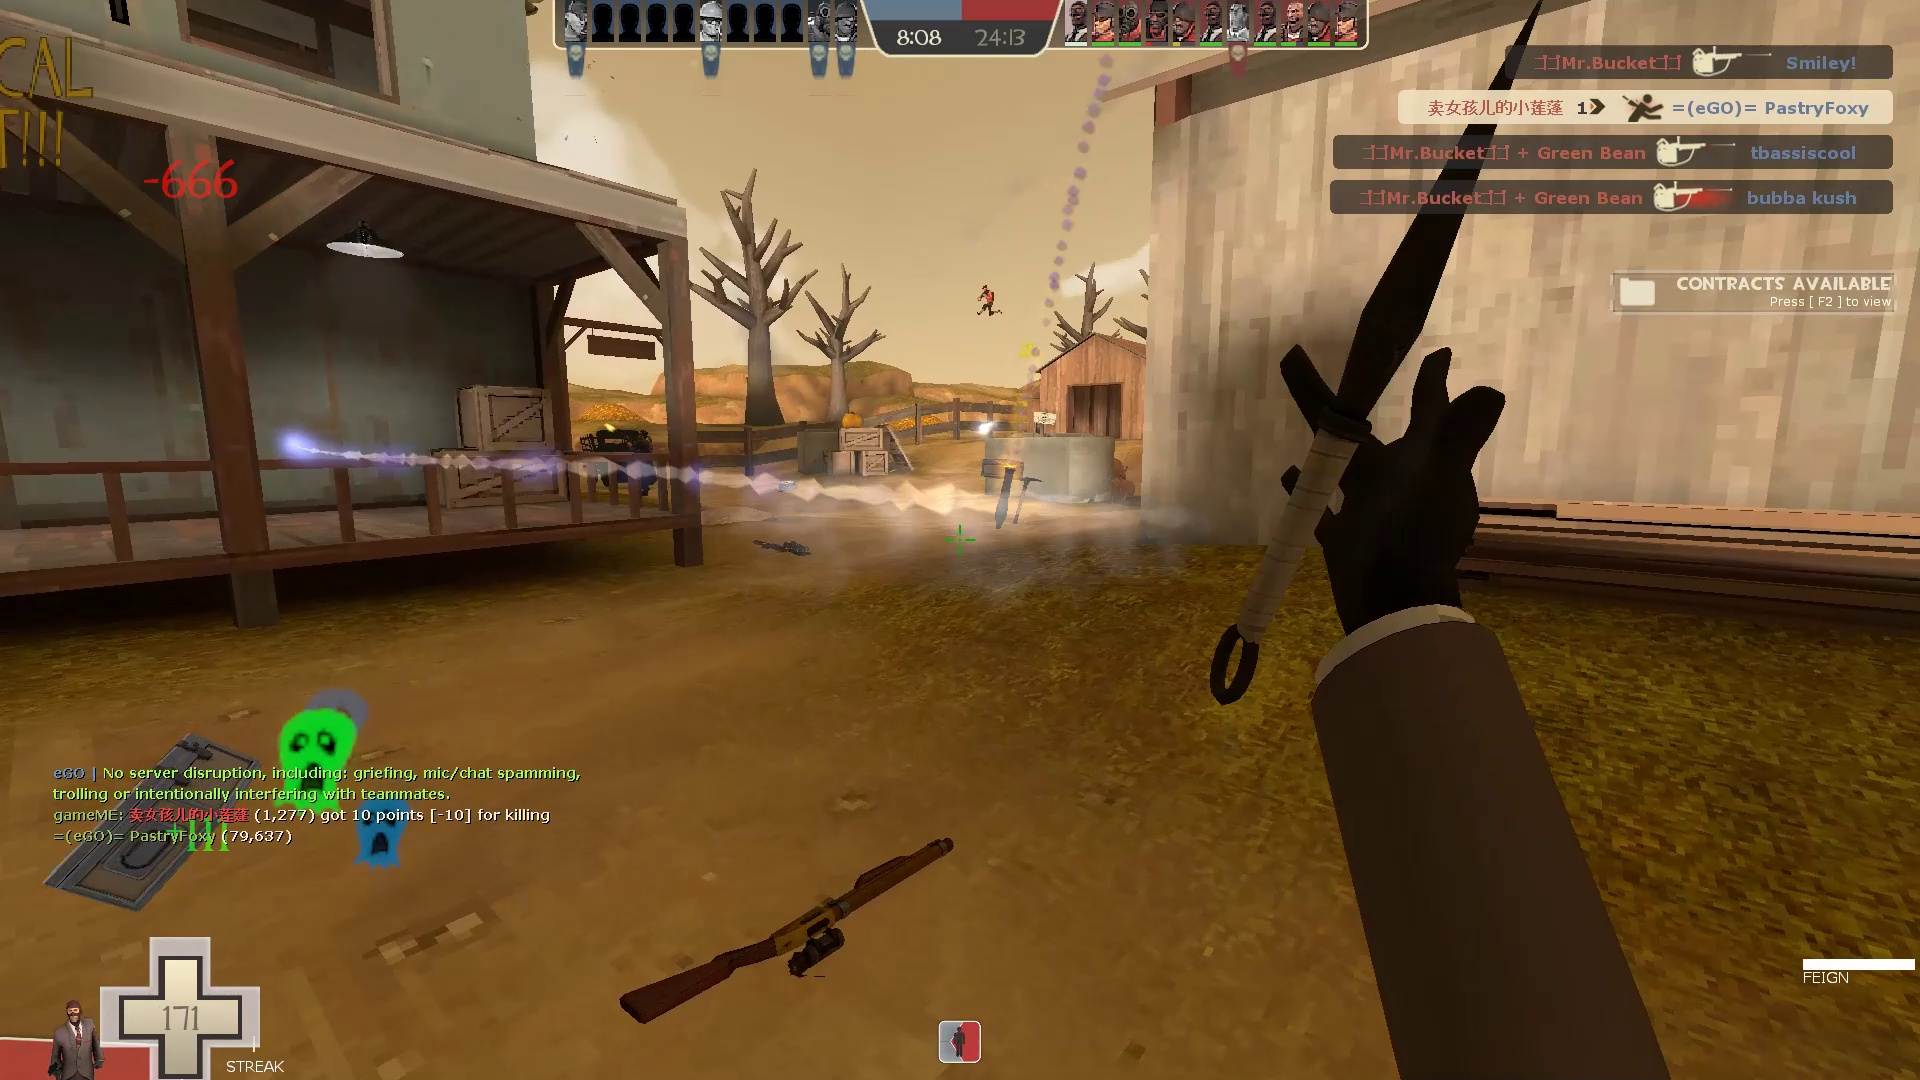red_scout: (975, 280, 1005, 320)
